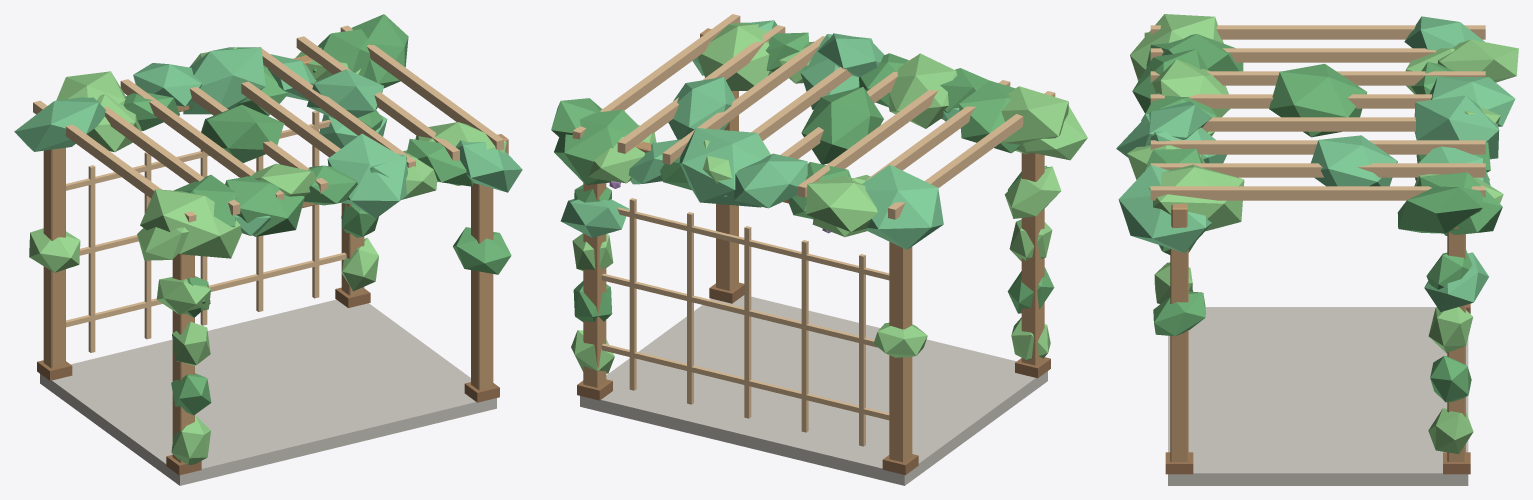
Rendered from prop_pergola_01.glb.
3 renders of one model, left to right at view 1: azimuth 30°, elevation 25°; view 2: azimuth 150°, elevation 25°; view 3: azimuth 270°, elevation 25°, orthographic. The views are drawn at different scales.
Visible parts, largest first — view 1: prop_pergola_01_body; view 2: prop_pergola_01_body; view 3: prop_pergola_01_body.
Part boxes in pixels (x1=…): prop_pergola_01_body: x1=14, y1=14, x2=522, y2=485; prop_pergola_01_body: x1=551, y1=14, x2=1087, y2=485; prop_pergola_01_body: x1=1116, y1=14, x2=1518, y2=485.
Bounding box in the file's own units: 4.19 × 3.03 × 3.49.
